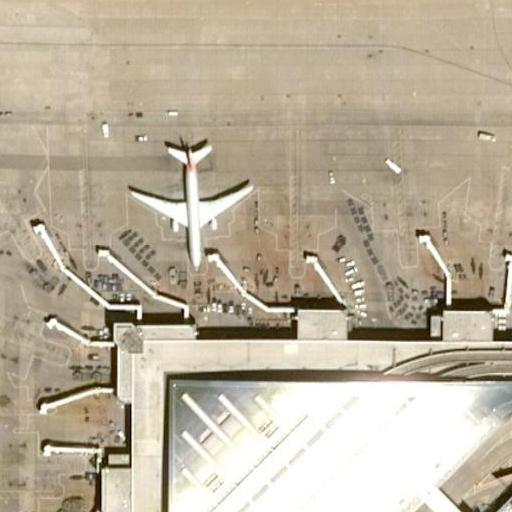Aircraft: (120, 136, 256, 268)
